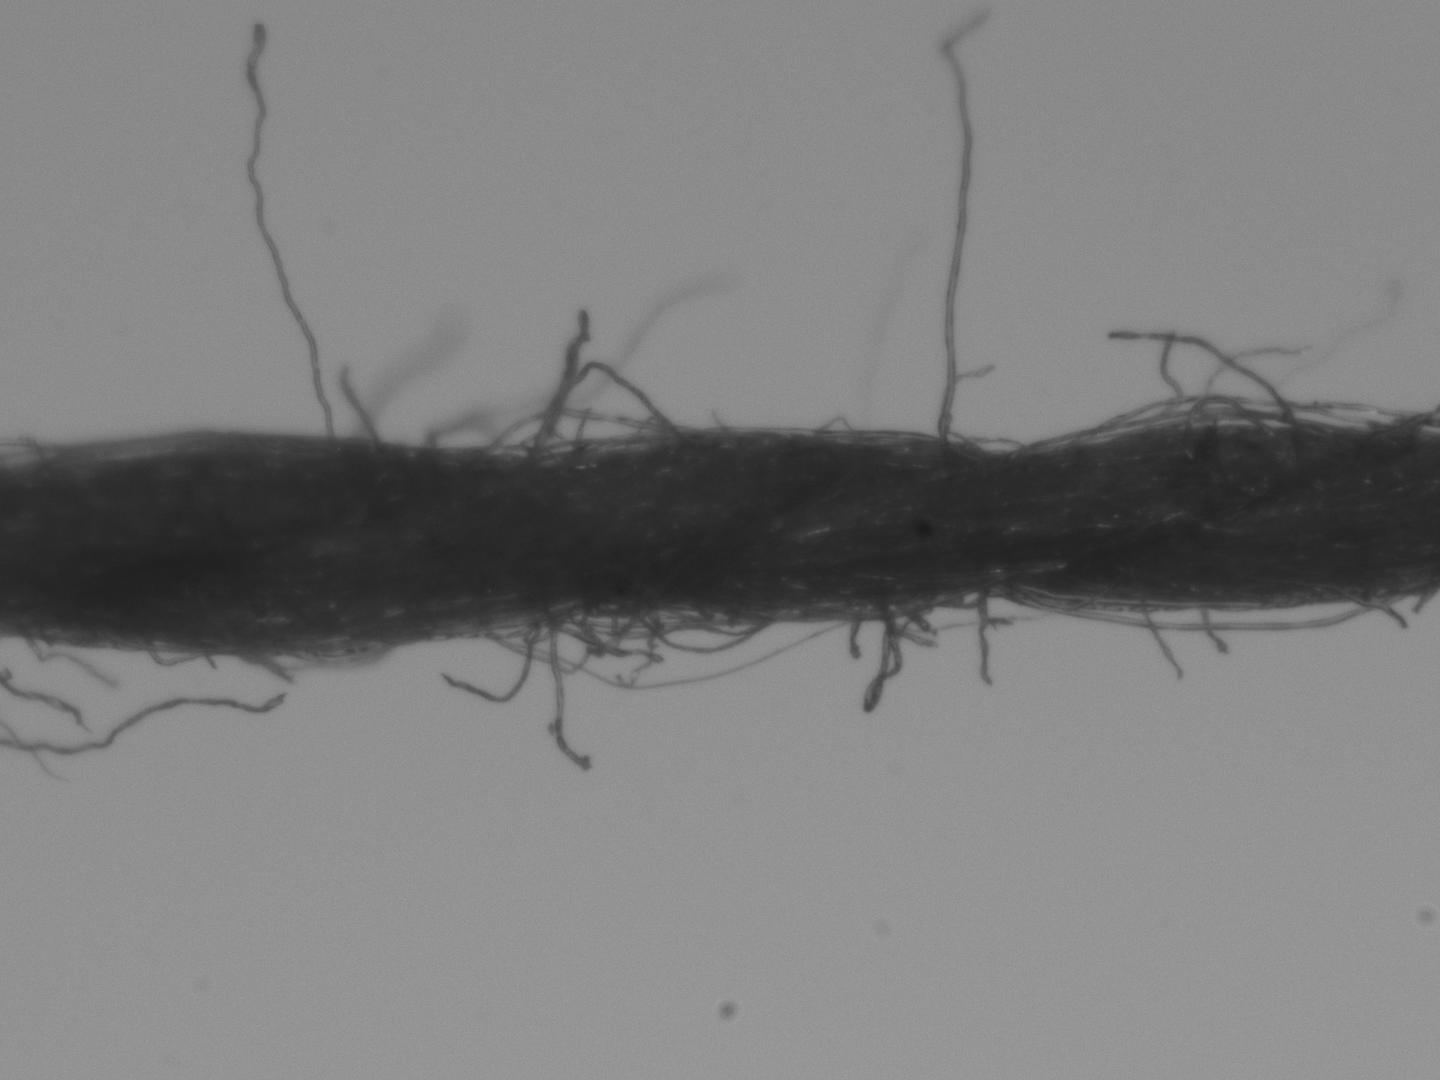loop_fiber: (477, 602, 845, 692), (475, 360, 693, 465), (997, 587, 1405, 636), (1085, 390, 1382, 449), (273, 635, 386, 674), (136, 642, 213, 669), (957, 429, 1024, 457)
protruding_fiber: (243, 22, 339, 441), (937, 10, 992, 438), (433, 615, 539, 701), (548, 614, 587, 769), (974, 588, 990, 684)
